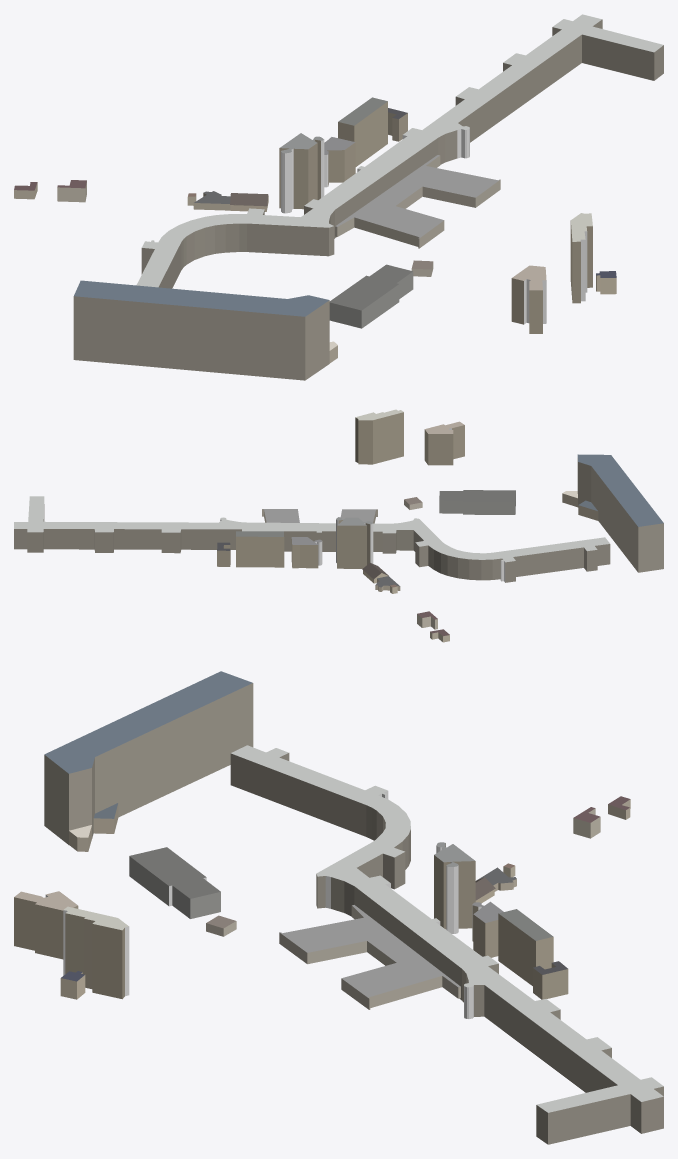
The picture shows the model from 3 angles, top to bottom: view 1: azimuth 30°, elevation 25°; view 2: azimuth 150°, elevation 25°; view 3: azimuth 270°, elevation 25°; orthographic projection. The views are drawn at different scales.
Visible parts, largest first — view 1: tuile; view 2: tuile; view 3: tuile.
Part boxes in pixels (x1,y1,x2,y2): tuile: (14,14,663,380); tuile: (14,409,663,642); tuile: (14,671,663,1144).
Size of the model in its own units: 412 by 34.27 by 282.
